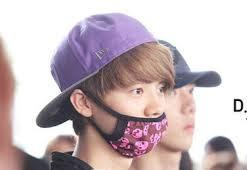NONE: (149, 84, 198, 148)
WRONG: (98, 70, 166, 156)
